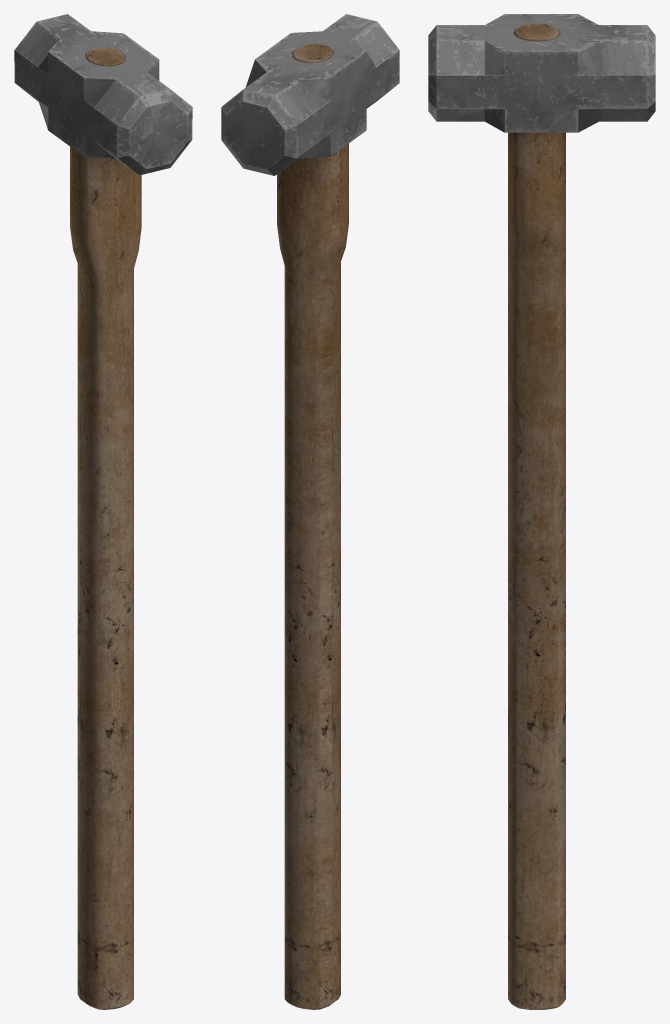
The model's file is SledgeHammer.glb.
The picture shows the model from 3 angles, left to right: view 1: azimuth 30°, elevation 25°; view 2: azimuth 150°, elevation 25°; view 3: azimuth 270°, elevation 25°; orthographic projection. The views are drawn at different scales.
Parts seen in each view (by area): view 1: Sledgehammer; view 2: Sledgehammer; view 3: Sledgehammer.
Boxes of the visible parts, <box> form: Sledgehammer: <box>14,14,192,1009</box>; Sledgehammer: <box>221,14,399,1009</box>; Sledgehammer: <box>428,14,655,1009</box>.
Bounding box in the file's own units: 0.0591 × 0.7066 × 0.1502.
Materials: 1 (1 with a texture image).
